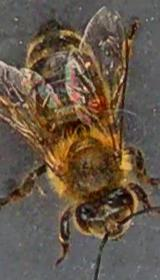varroa_mite: (77, 90, 106, 114)
